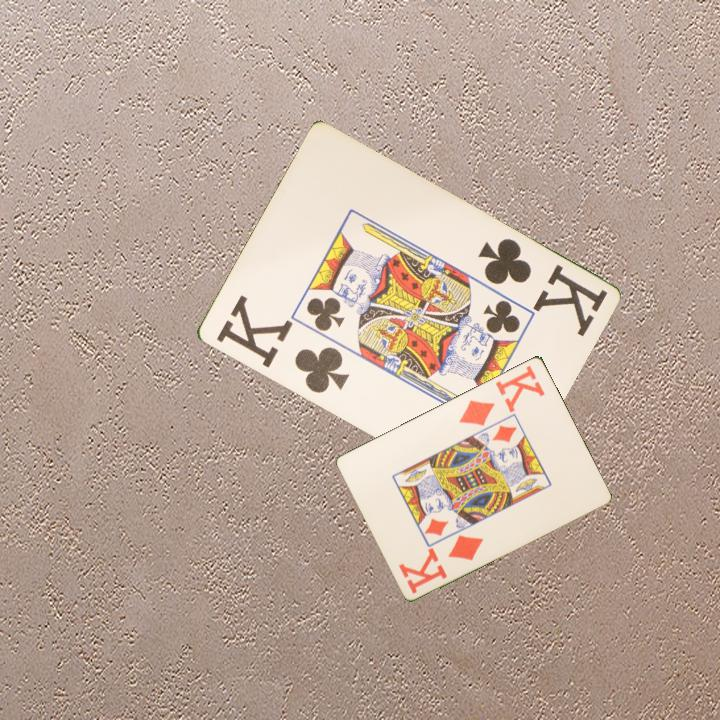Kc: (212, 292, 352, 397), (473, 234, 610, 338)
Kd: (456, 361, 548, 428), (396, 531, 487, 597)
